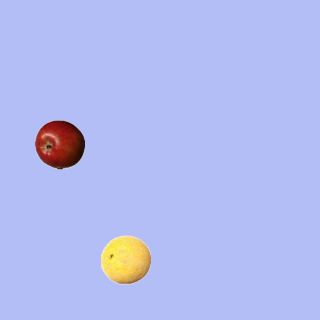Apple Braeburn: (34, 119, 84, 169)
Cantaloupe 1: (100, 234, 150, 284)
